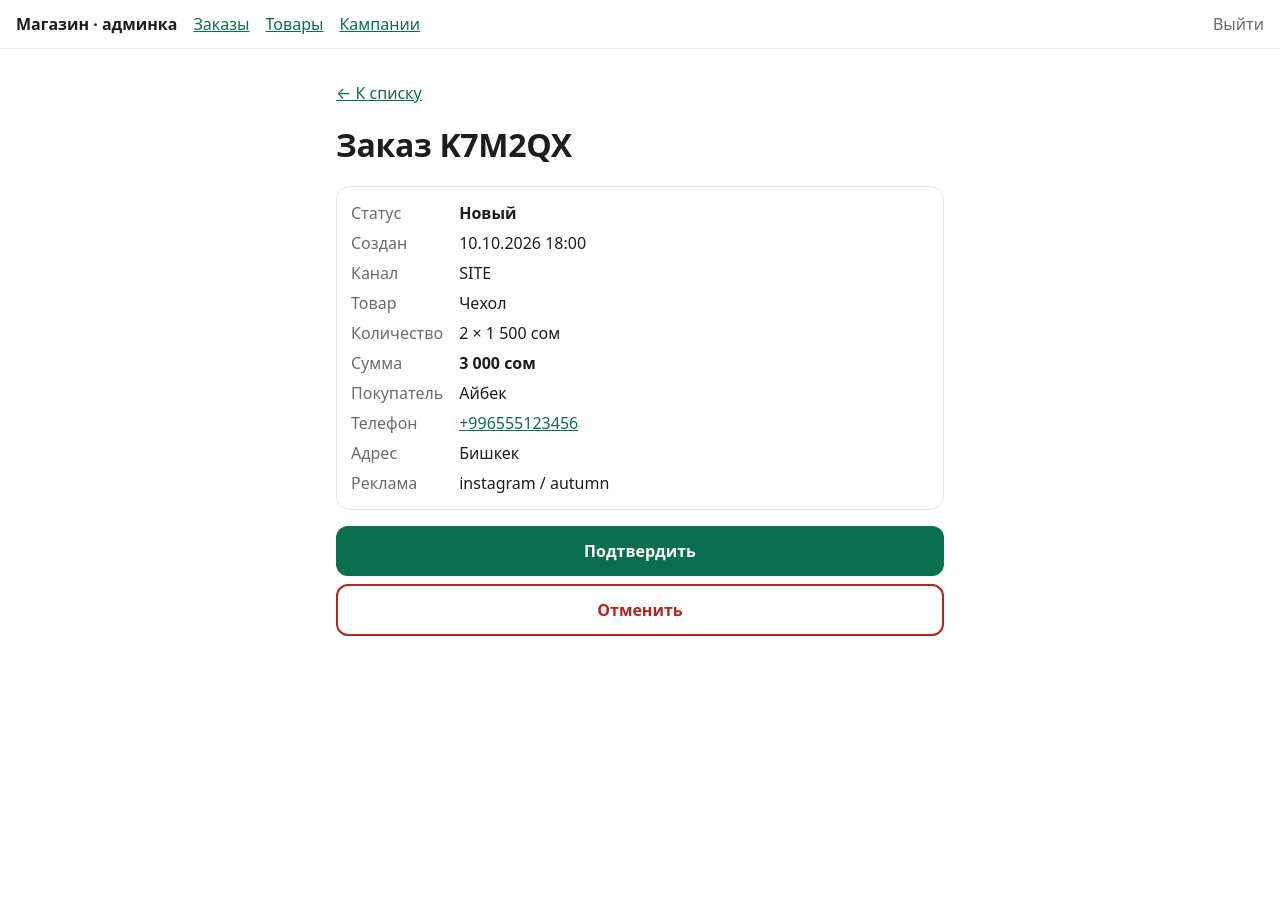
подтверждение заказа: кнопки меняются по новому статусу
The image size is (1280, 900).
Click the button "Подтвердить": (640, 551) [336,526,944,576]
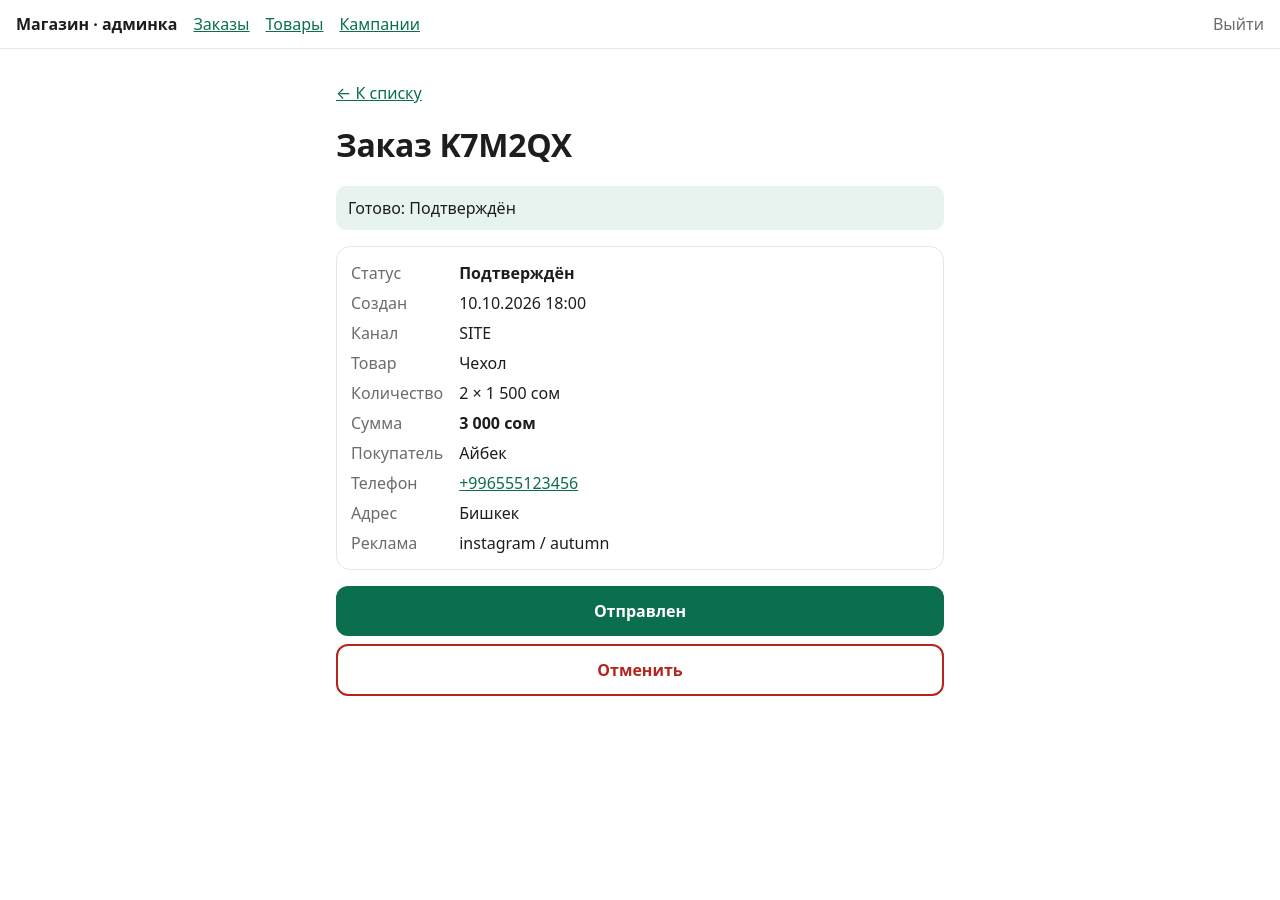
Expected: the text "instagram / autumn" is shown, [459,532,609,554]
Expected: the text "Готово: Подтверждён" is shown, [336,186,944,230]
Expected: the button "Отправлен" is shown, [336,586,944,636]
